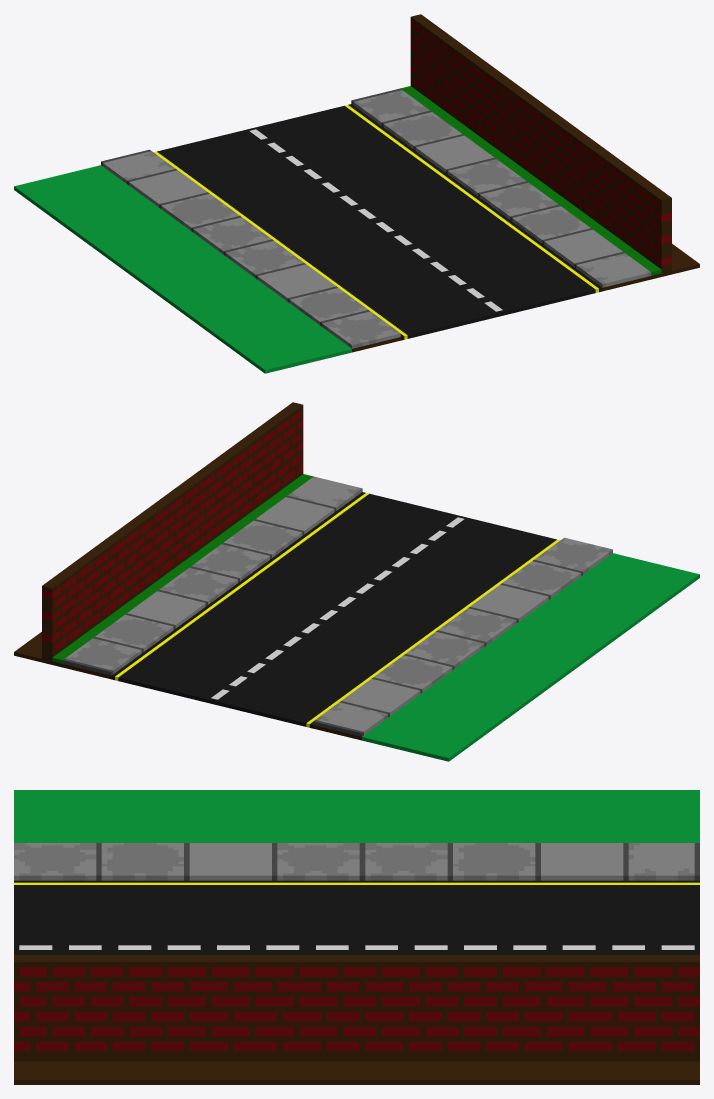
File: newPrototypeLevel-10.obj
3 views of the same model, one above another, from view 1: azimuth 30°, elevation 25°; view 2: azimuth 150°, elevation 25°; view 3: azimuth 270°, elevation 25° (orthographic). The views are drawn at different scales.
Visible parts, largest first — view 1: newPrototypeLevel-10; view 2: newPrototypeLevel-10; view 3: newPrototypeLevel-10.
Part boxes in pixels (bbox=[...]): newPrototypeLevel-10: bbox=[14, 14, 699, 373]; newPrototypeLevel-10: bbox=[14, 402, 699, 761]; newPrototypeLevel-10: bbox=[14, 790, 699, 1084].
Size of the model in its own units: 125 by 21 by 125.
Materials: 1 (1 with a texture image).
